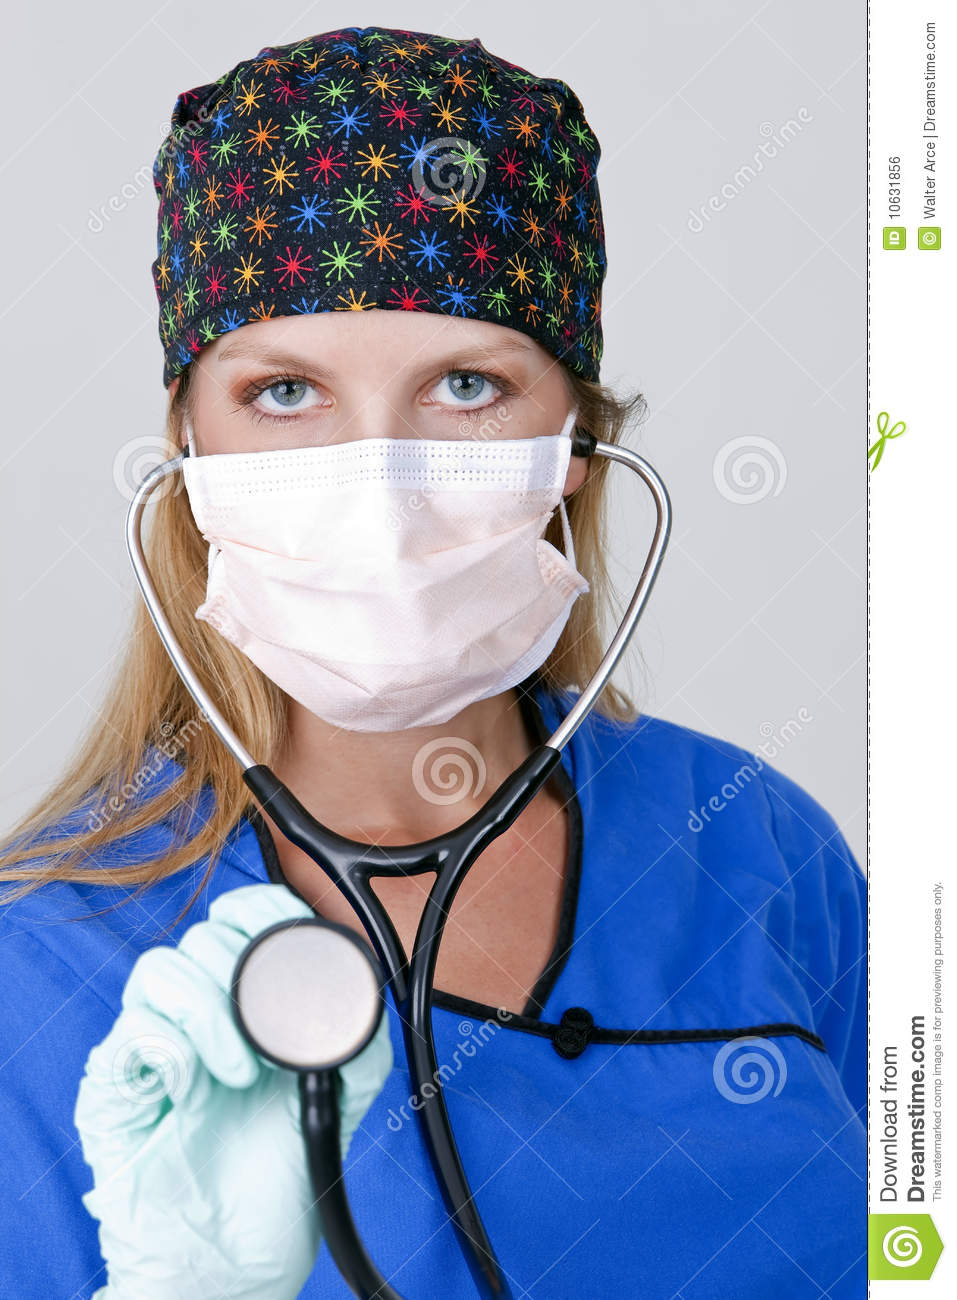mask: (164, 429, 566, 737)
